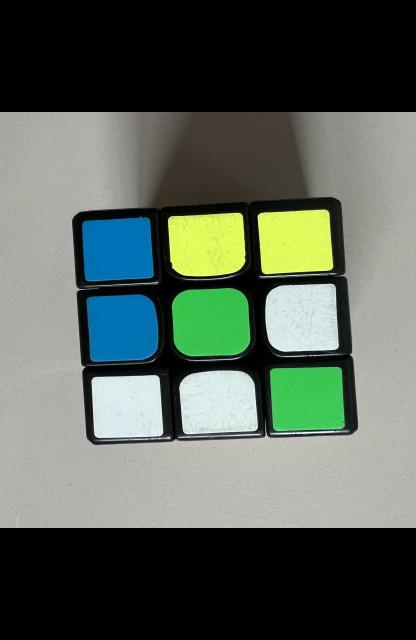Blue: (86, 294, 158, 362), (80, 217, 153, 281)
Green: (170, 288, 249, 357), (269, 367, 344, 432)
White: (178, 370, 257, 434), (264, 283, 338, 351), (90, 375, 162, 438)
Yellow: (167, 213, 244, 277), (257, 210, 332, 274)
